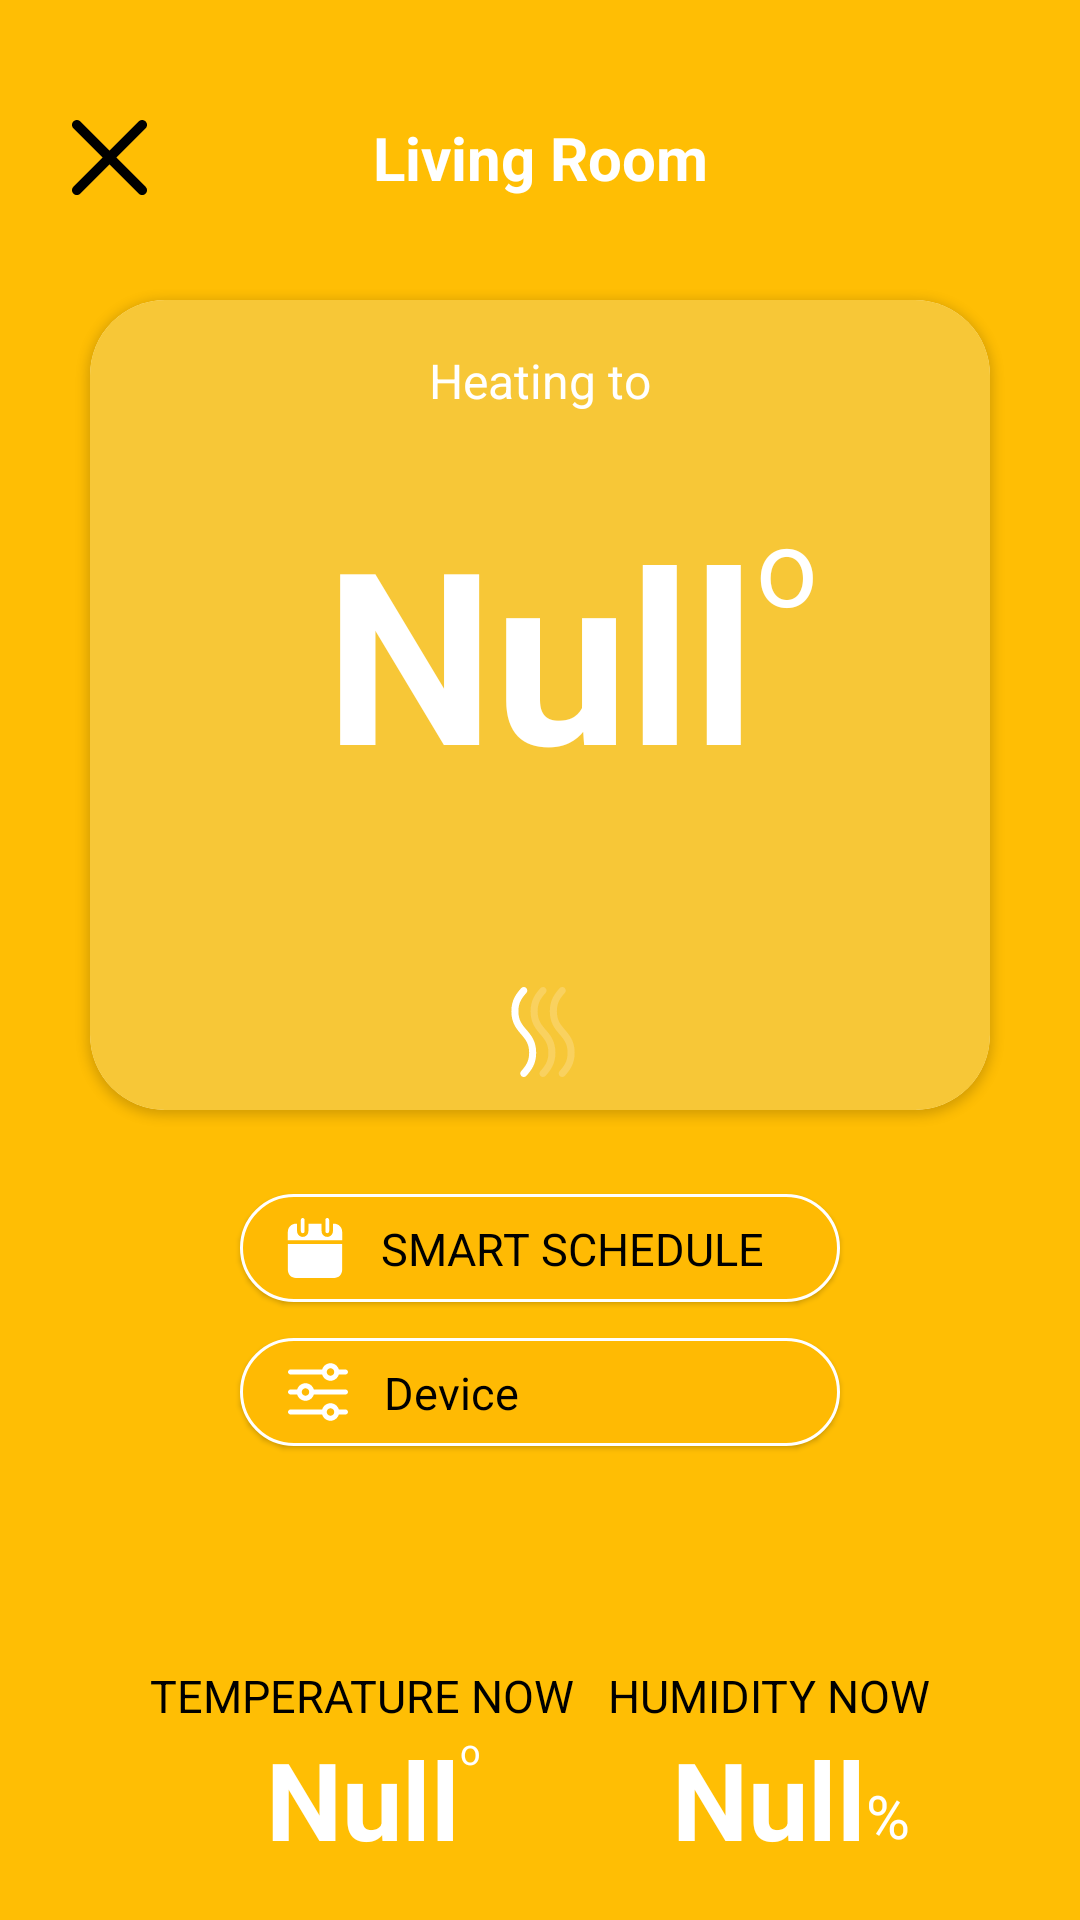

Icon click points for this 1080 × 1920 phone screenshot, format (x,y):
calendar: (315,1248)
close: (109,157)
settings: (318,1392)
